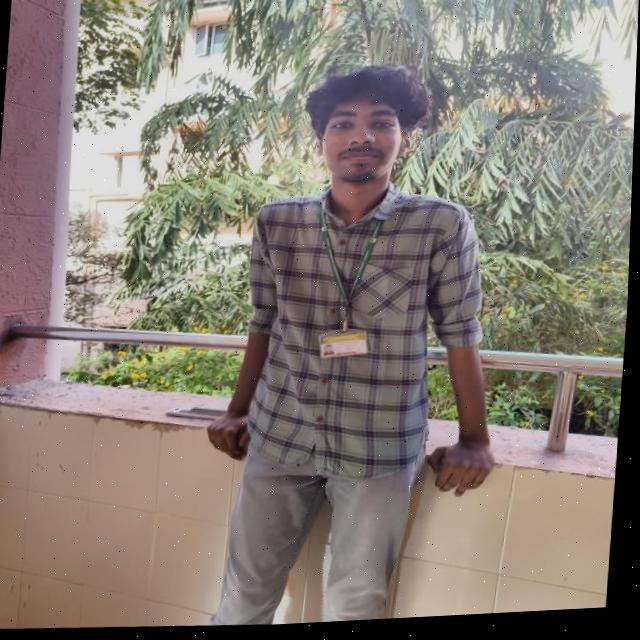id_card: (314, 207, 385, 367)
